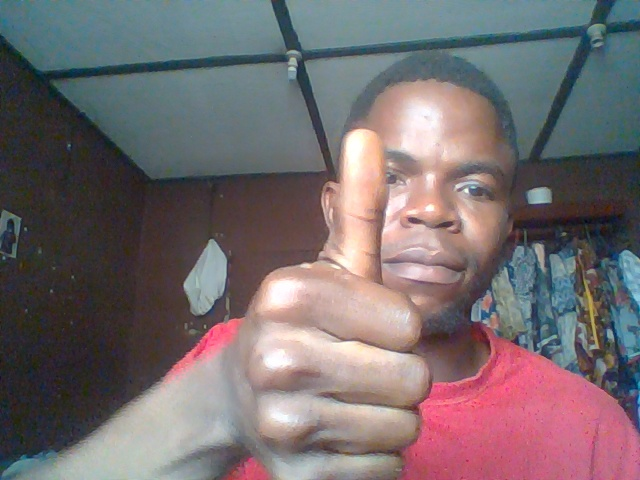Thumbup: (228, 128, 444, 479)
